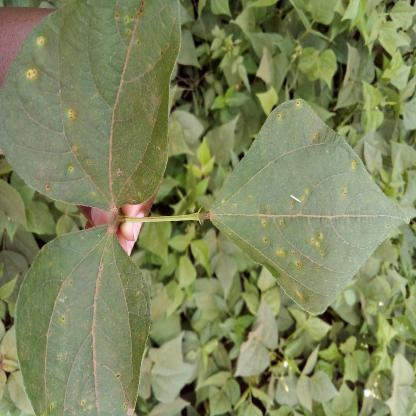Beans_Rust: (207, 98, 408, 313), (0, 0, 185, 208), (15, 230, 154, 416)
